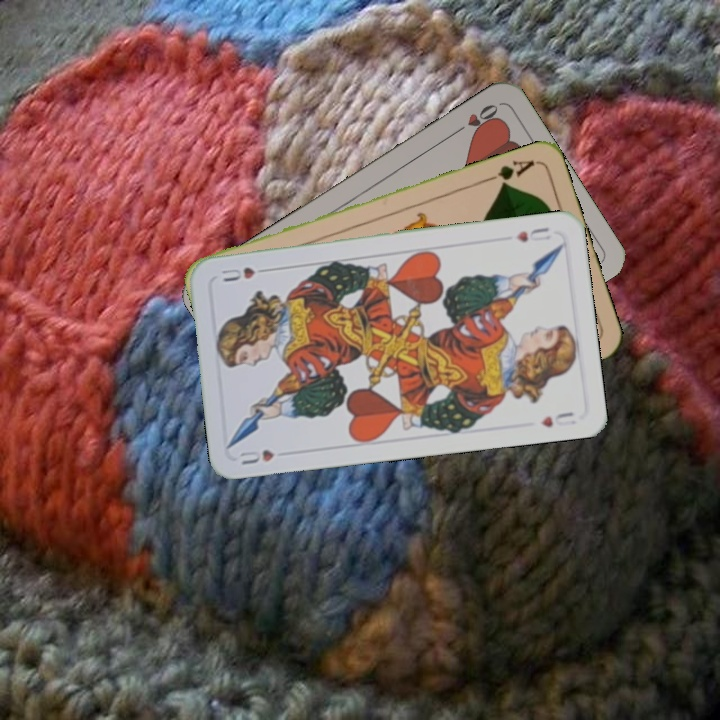GA: (481, 156, 537, 190)
HO: (449, 100, 501, 138)
HU: (512, 223, 554, 245), (234, 445, 276, 467)
